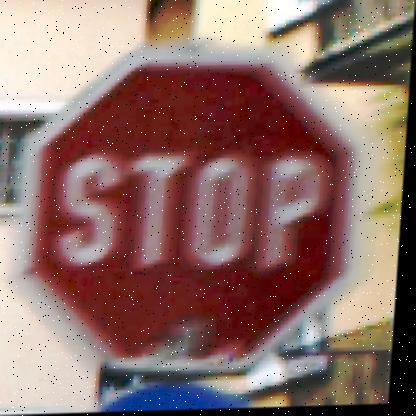Stop Sign: (13, 40, 375, 377)
